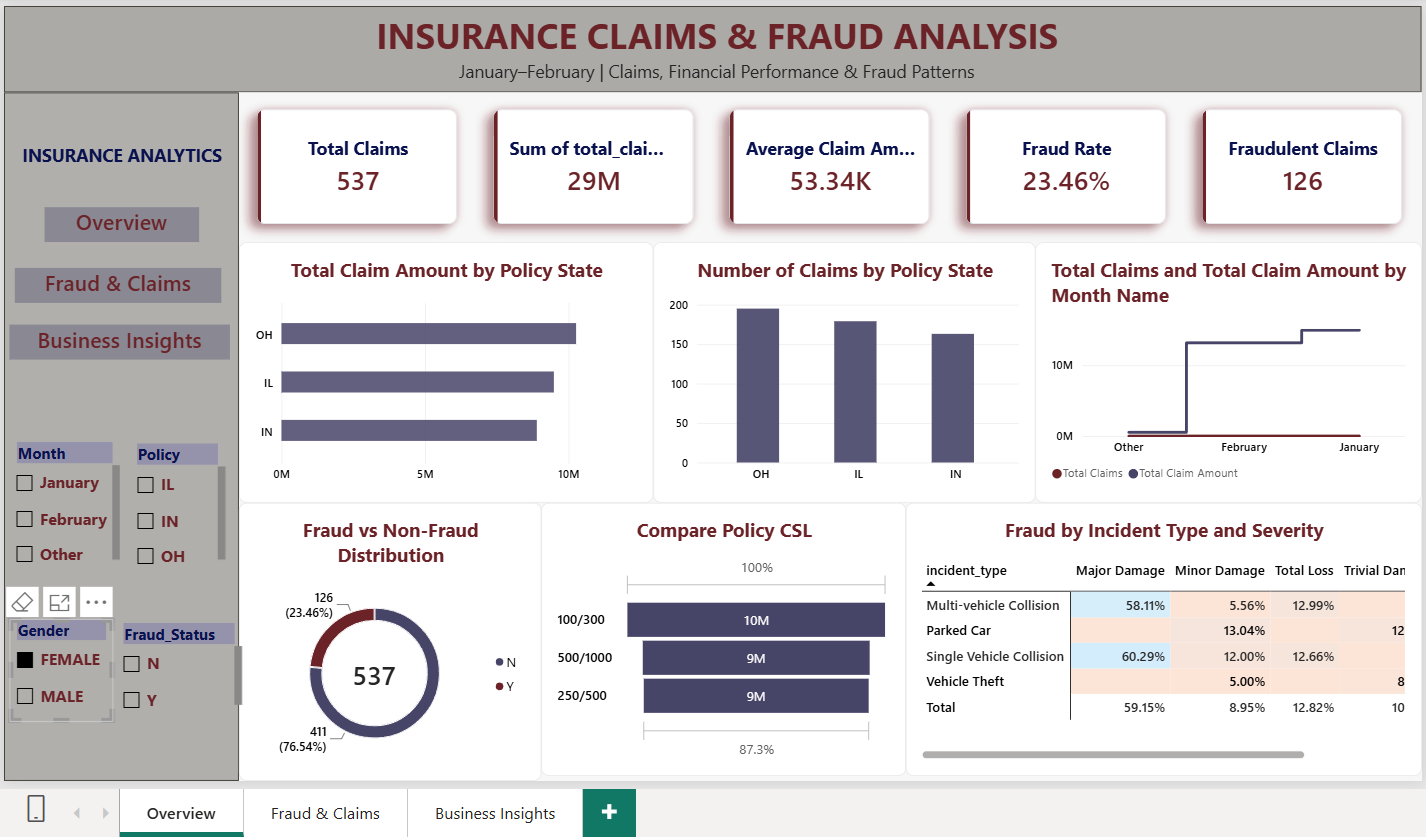

This screenshot's page, from the dashboard's own definition file:
{"tool":"powerbi","page":{"name":"Overview","canvas":[1500,820],"ordinal":0},"visuals":[{"type":"cardVisual","fields":{"Data":["insurance dataset.Total Claims","Sum(insurance dataset.total_claim_amount)","insurance dataset.Average Claim Amount","insurance dataset.Fraud Rate","insurance dataset.Fraudulent Claims"]},"box":[248.6,90,1251.7,160],"z":0},{"type":"lineChart","title":"Total Claims and Total Claim Amount by Month Name","fields":{"Category":["insurance dataset.Incident Month Name"],"Y":["insurance dataset.Total Claims","insurance dataset.Total Claim Amount"]},"box":[1091.4,250,408.6,275.7],"z":1000},{"type":"clusteredBarChart","title":"Total Claim Amount by Policy State","fields":{"Category":["insurance dataset.policy_state"],"Y":["insurance dataset.Total Claim Amount"]},"box":[248.6,250,438.6,275.7],"z":2000},{"type":"clusteredColumnChart","title":"Number of Claims by Policy State","fields":{"Category":["insurance dataset.policy_state"],"Y":["insurance dataset.Total Claims"]},"box":[687.1,250,404.3,275.7],"z":3000},{"type":"funnel","title":"Compare Policy CSL","fields":{"Category":["insurance dataset.policy_csl"],"Y":["insurance dataset.Total Claim Amount"]},"box":[568.6,525.7,385.7,288.6],"z":4000},{"type":"tableEx","fields":{"Values":["insurance dataset.policy_state","insurance dataset.policy_csl","insurance dataset.Total Claims","insurance dataset.Total Claim Amount","insurance dataset.Average Claim Amount","insurance dataset.Fraud Rate"]},"box":[1155.4,837.3,692.4,233.5],"z":5000},{"type":"shape","box":[0,0,1500,91.4],"z":6000},{"type":"shape","box":[0,91.4,248.6,728.6],"z":7000},{"type":"textbox","box":[185,5,1138.3,50],"z":8000},{"type":"textbox","box":[340,55,828.3,46.7],"z":9000},{"type":"donutChart","title":"Fraud vs Non-Fraud Distribution","fields":{"Category":["insurance dataset.fraud_reported"],"Y":["insurance dataset.Total Claims"]},"box":[248.6,525.7,320,294.3],"z":10000},{"type":"pivotTable","title":"Fraud by Incident Type and Severity","fields":{"Rows":["insurance dataset.incident_type"],"Columns":["insurance dataset.incident_severity"],"Values":["insurance dataset.Fraud Rate"]},"box":[954.3,525.7,545.7,288.6],"z":11000},{"type":"textbox","box":[11.4,138.6,227.1,45.7],"z":12000},{"type":"actionButton","title":"Overview","box":[43.3,213.3,163.3,36.7],"z":13000},{"type":"actionButton","title":"Fraud & Claims","box":[11.7,276.7,218.3,36.7],"z":14000},{"type":"slicer","fields":{"Values":["insurance dataset.Incident Month Name"]},"box":[5,461.7,116.7,136.7],"z":15000},{"type":"slicer","fields":{"Values":["insurance dataset.policy_state"]},"box":[133.3,463.3,101.7,135],"z":16000},{"type":"slicer","fields":{"Values":["insurance dataset.insured_sex"]},"box":[5,648.3,110,108.3],"z":17000},{"type":"slicer","fields":{"Values":["insurance dataset.fraud_reported"]},"box":[118.3,653.3,133.3,98.3],"z":18000},{"type":"actionButton","title":"Business Insights ","box":[5,336.7,233.3,36.7],"z":19000}]}

Visuals, with their boxes on the page's 1500x820 design canvas (x1, y1, x2, y2). These are canvas units, not pixel positions in the 1426x837 screenshot, which may show the page scaled, cropped or inside an application window:
cardVisual - insurance dataset.Total Claims x Sum(insurance dataset.total_claim_amount): crop(249, 90, 1500, 250)
"Total Claims and Total Claim Amount by Month Name" lineChart: crop(1091, 250, 1500, 526)
"Total Claim Amount by Policy State" clusteredBarChart: crop(249, 250, 687, 526)
"Number of Claims by Policy State" clusteredColumnChart: crop(687, 250, 1091, 526)
"Compare Policy CSL" funnel: crop(569, 526, 954, 814)
tableEx - insurance dataset.policy_state x insurance dataset.policy_csl: crop(1155, 837, 1848, 1071)
shape: crop(0, 0, 1500, 91)
shape: crop(0, 91, 249, 820)
textbox: crop(185, 5, 1323, 55)
textbox: crop(340, 55, 1168, 102)
"Fraud vs Non-Fraud Distribution" donutChart: crop(249, 526, 569, 820)
"Fraud by Incident Type and Severity" pivotTable: crop(954, 526, 1500, 814)
textbox: crop(11, 139, 238, 184)
"Overview" actionButton: crop(43, 213, 207, 250)
"Fraud & Claims" actionButton: crop(12, 277, 230, 313)
slicer - insurance dataset.Incident Month Name: crop(5, 462, 122, 598)
slicer - insurance dataset.policy_state: crop(133, 463, 235, 598)
slicer - insurance dataset.insured_sex: crop(5, 648, 115, 757)
slicer - insurance dataset.fraud_reported: crop(118, 653, 252, 752)
"Business Insights " actionButton: crop(5, 337, 238, 373)
